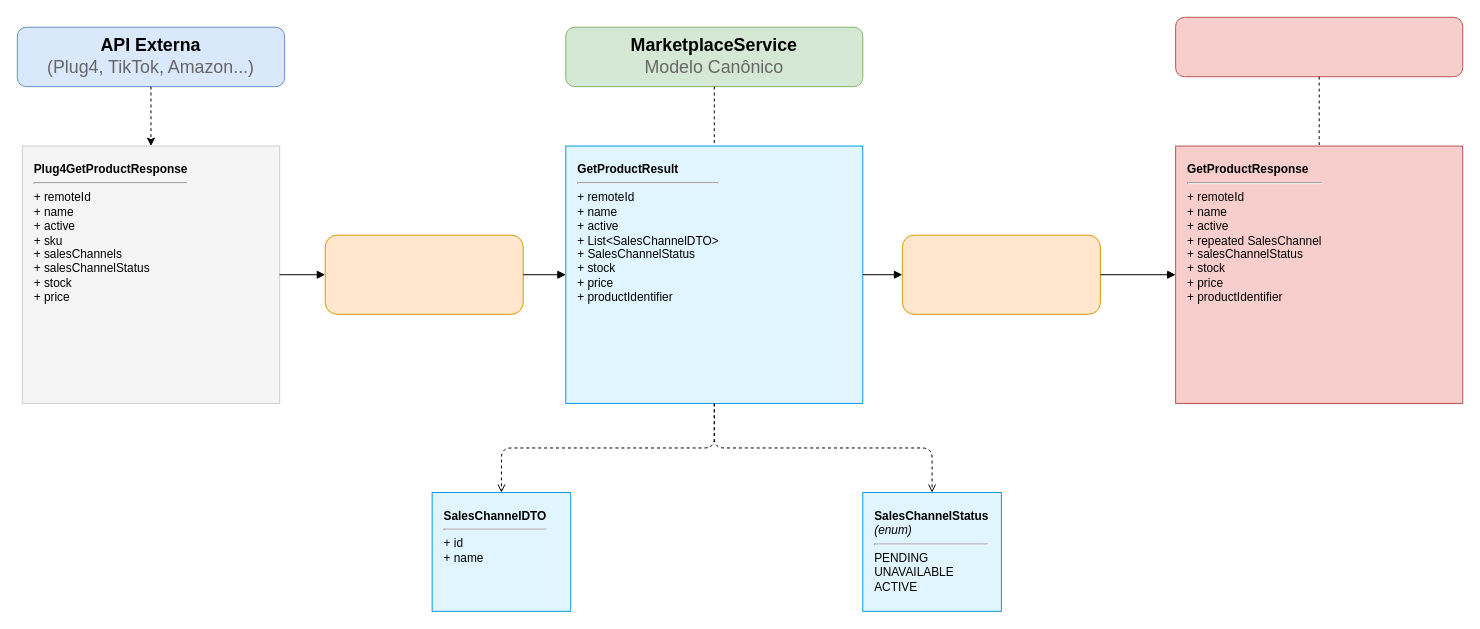
Image size: 1480x629. Some labels were removed from this diagram. Each missing label, with the centre of its shape:
Contrato gRPC: (x=1319, y=46)
GrpcProductMapper toGrpc(): (x=1000, y=274)
Plug4ProductMapper toGetProductResult(): (x=423, y=274)
